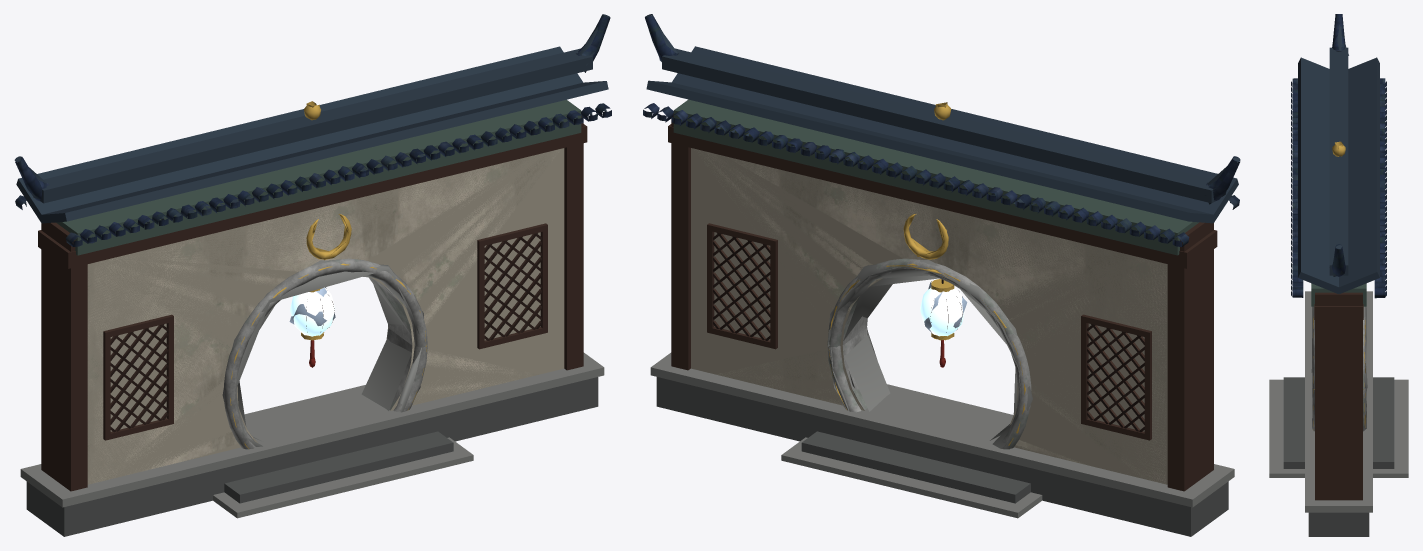
File: prop_moon_gate.gltf
3 views of the same model, side by side, from view 1: azimuth 30°, elevation 25°; view 2: azimuth 150°, elevation 25°; view 3: azimuth 270°, elevation 25° (orthographic). The views are drawn at different scales.
Parts seen in each view (by area): view 1: Far, Near; view 2: Far, Near; view 3: Far, Near.
Boxes of the visible parts, left/top/right/bottom form: Far: left=15, top=14, right=609, bottom=536; Near: left=15, top=14, right=611, bottom=483; Far: left=645, top=14, right=1239, bottom=536; Near: left=643, top=14, right=1240, bottom=483; Far: left=1269, top=25, right=1408, bottom=536; Near: left=1291, top=14, right=1386, bottom=431.
Size of the model in its own units: 7.8 by 4.74 by 1.95.
11 materials, 8 textured.
